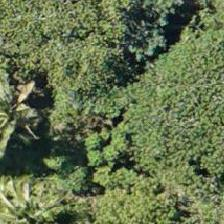coconut_tree: (0, 72, 72, 162)
